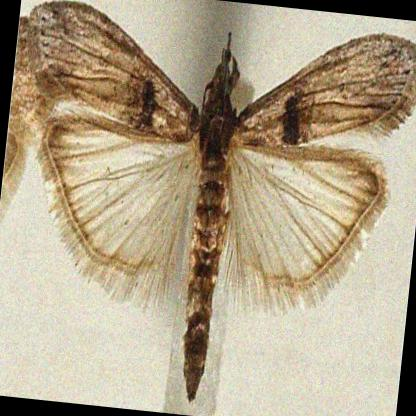Leaf Webber: (27, 0, 416, 408)
